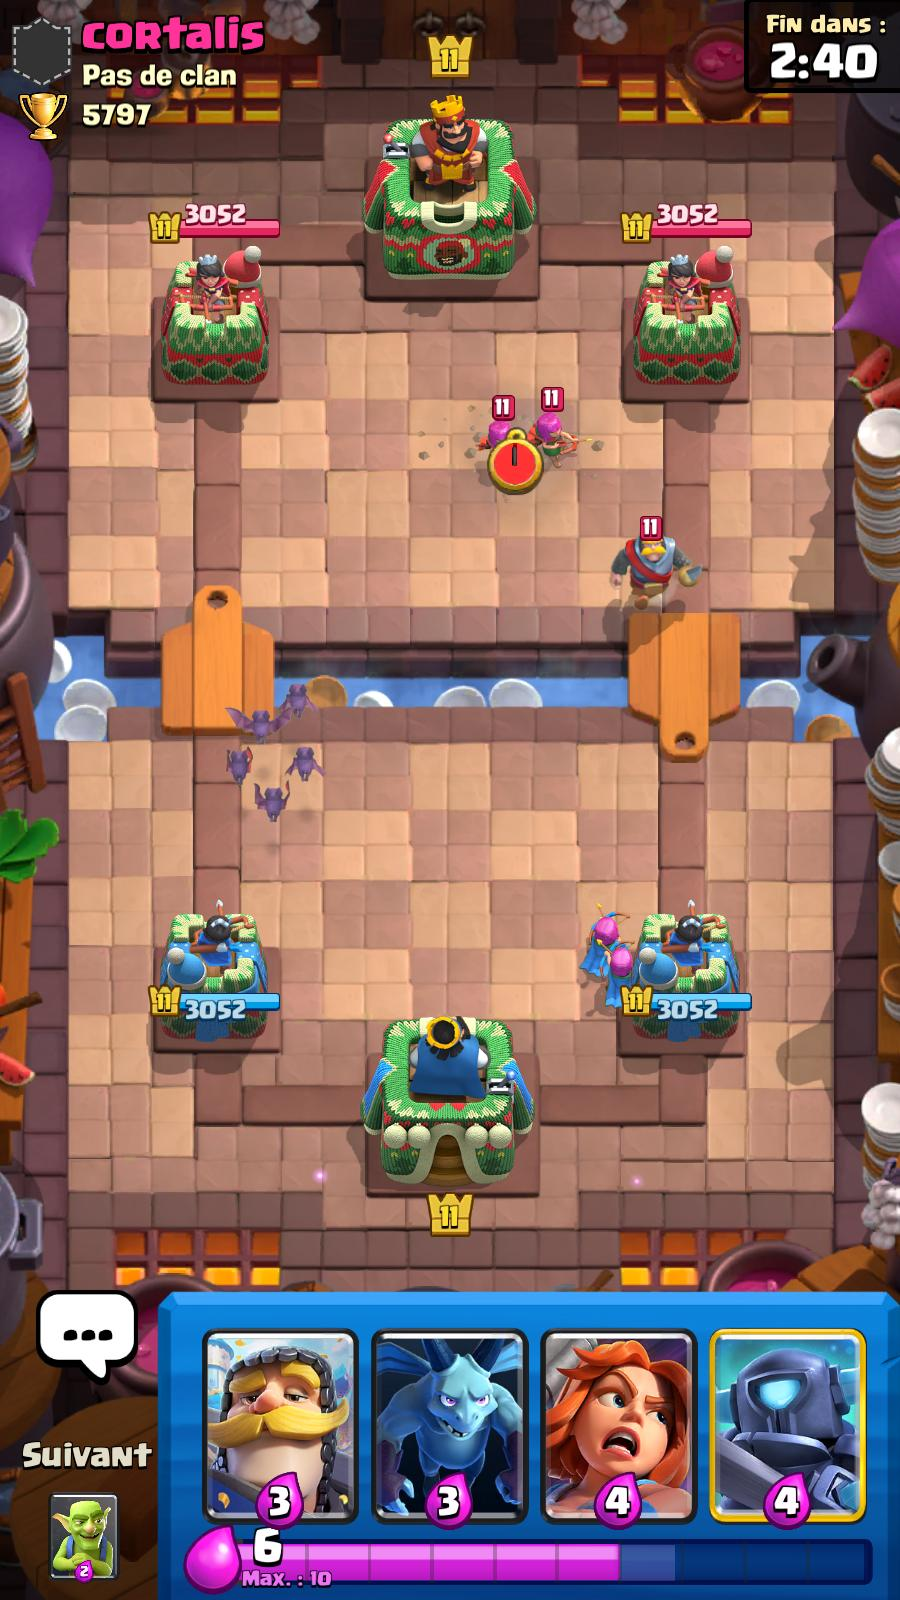archere: (578, 903, 633, 978), (526, 411, 595, 470), (595, 937, 637, 1009), (477, 420, 526, 474)
bat: (224, 704, 297, 746), (253, 781, 292, 824), (284, 745, 327, 784), (278, 684, 320, 719), (225, 745, 254, 787)
chevalier: (610, 516, 709, 614)
